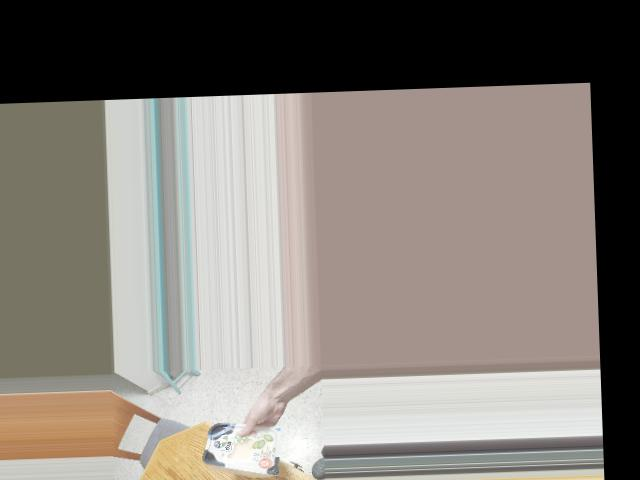cheese: (209, 414, 268, 477)
